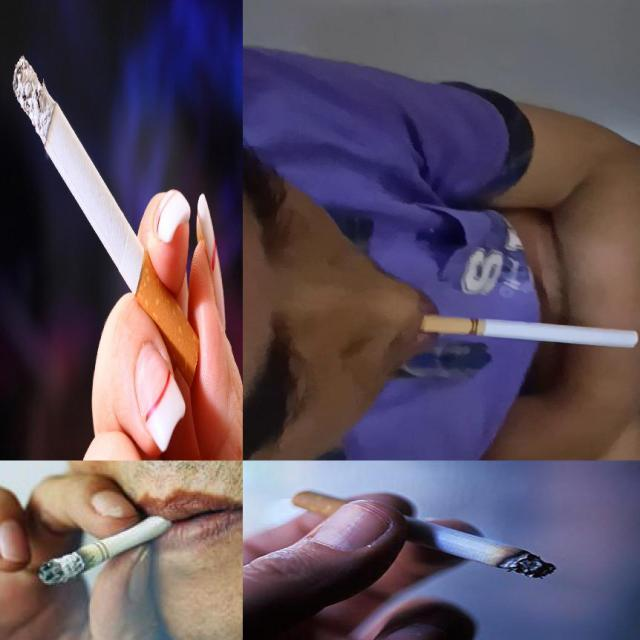smoking: (12, 51, 200, 391), (292, 490, 556, 579), (34, 514, 180, 586), (416, 314, 640, 350)
